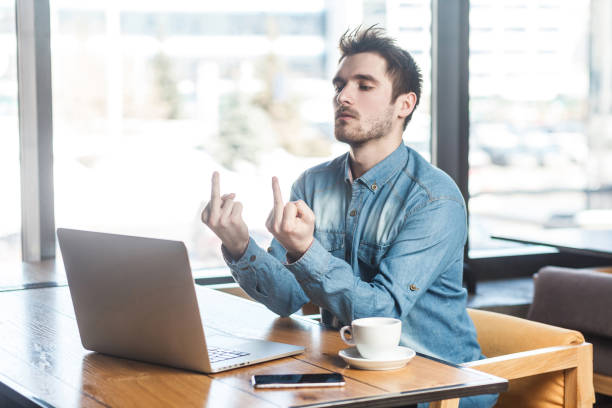insulting_gesture: (198, 165, 251, 246), (263, 175, 317, 254)
